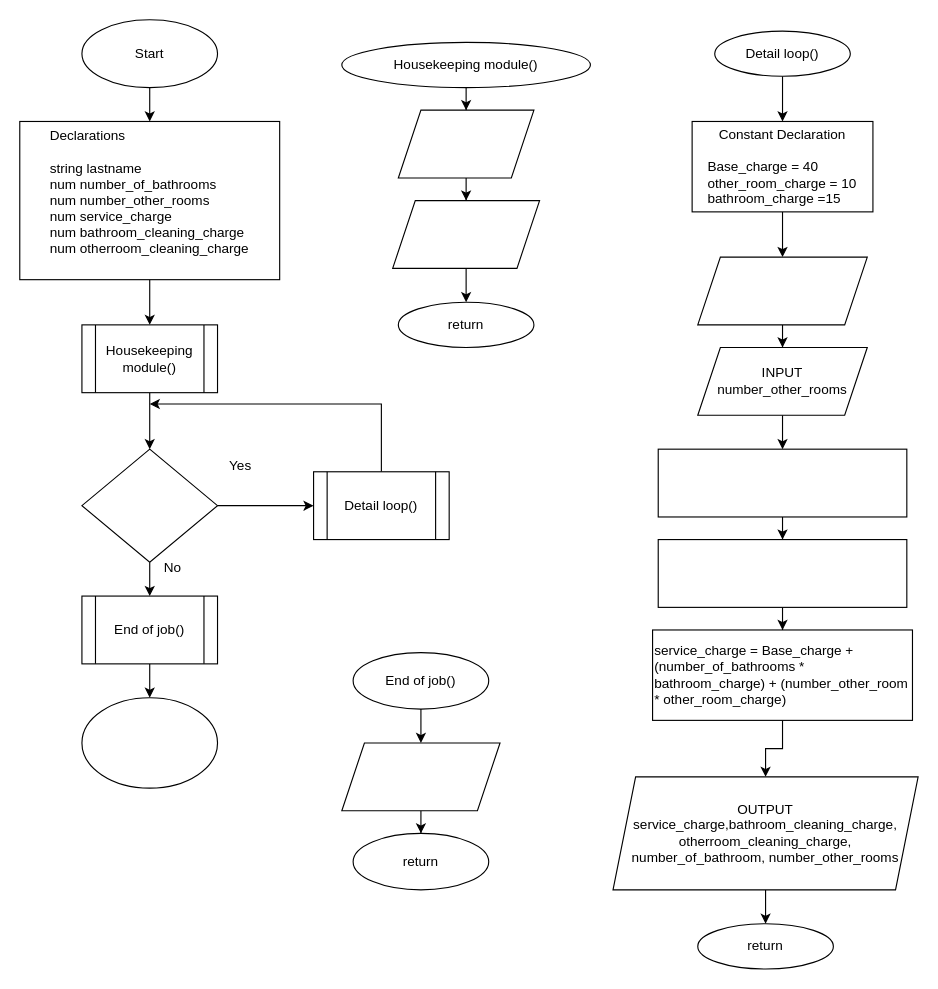
Some shapes in this 938 by 989 pixel diagram are drawn without their labels. Here are the shapes that lost their labels. From the top down, the centre of each, then its label:
pixel 465 143: INPUT lastname
pixel 466 233: OUTPUT lastname
pixel 782 290: INPUT number_of_bathrooms
pixel 782 482: bathroom_cleaning_charge = bathroom_charge * number_of_bathrooms
pixel 149 505: While lastname != "ZZZZ"
pixel 782 572: otherroom_cleaning_charge = number_other_rooms *other_room_charge
pixel 149 742: Stop
pixel 420 776: Output "Program is complete"
